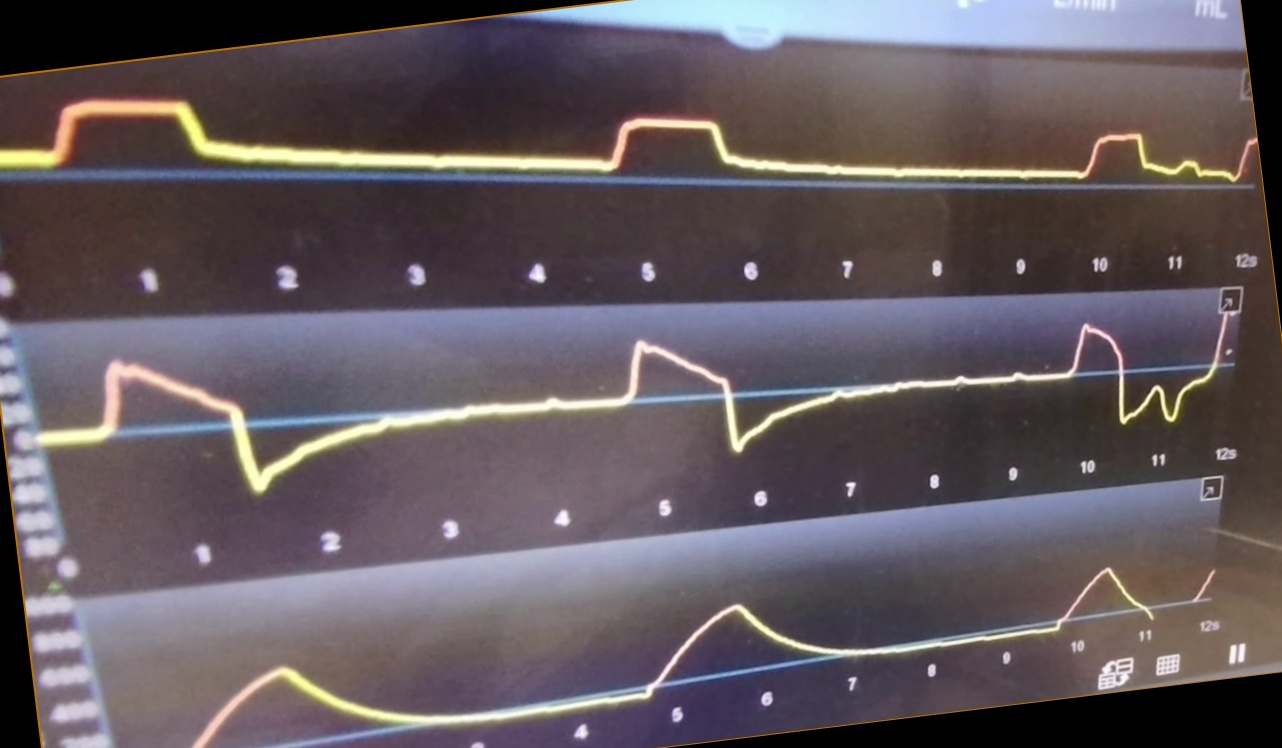Premature_cycling Flow: (47, 313, 1234, 497)
Premature_cycling Volume: (165, 565, 1220, 748)
